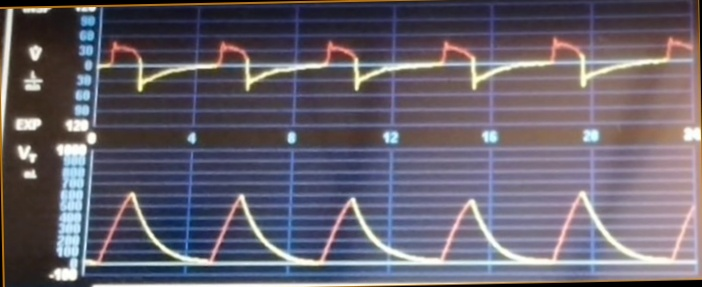Normal Flow: (101, 22, 691, 108)
Normal Volume: (92, 175, 694, 269)
